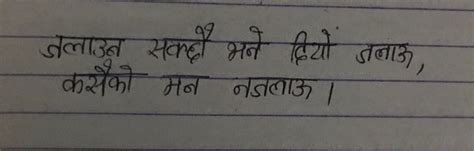text: (59, 59, 143, 97), (144, 22, 216, 66), (230, 73, 318, 102), (35, 33, 126, 59), (287, 27, 338, 65), (354, 40, 415, 70), (226, 25, 269, 63), (157, 70, 209, 99)
